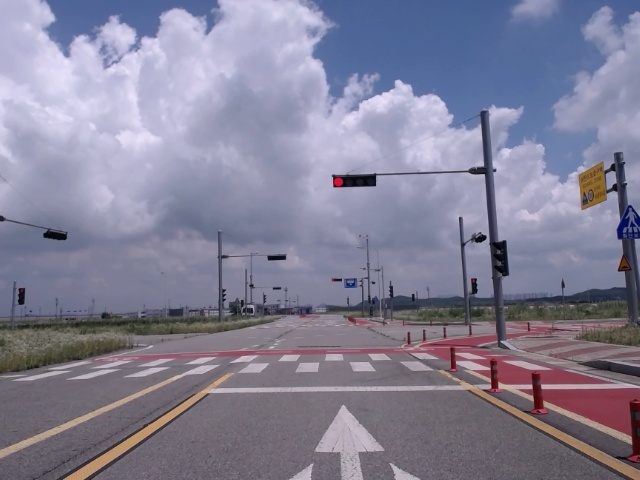red_4: (333, 175, 376, 188)
